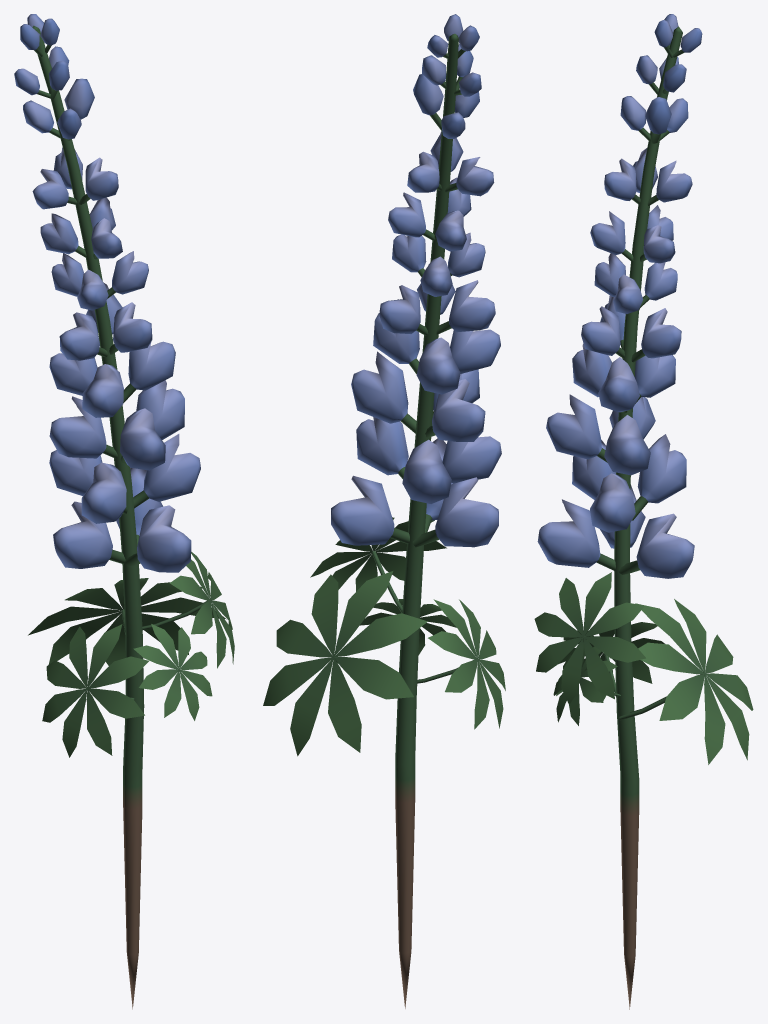
Rendered from plants-flowers-lupine_v2.fbx.
3 renders of one model, left to right at view 1: azimuth 30°, elevation 25°; view 2: azimuth 150°, elevation 25°; view 3: azimuth 270°, elevation 25°, orthographic. The views are drawn at different scales.
Visible parts, largest first — view 1: Lupine_v2; view 2: Lupine_v2; view 3: Lupine_v2.
Part boxes in pixels (x1,y1,x2,y2): Lupine_v2: [14, 14, 234, 1009]; Lupine_v2: [263, 14, 505, 1008]; Lupine_v2: [534, 14, 753, 1009].
Size of the model in its own units: 0.1935 by 0.9 by 0.1863.
